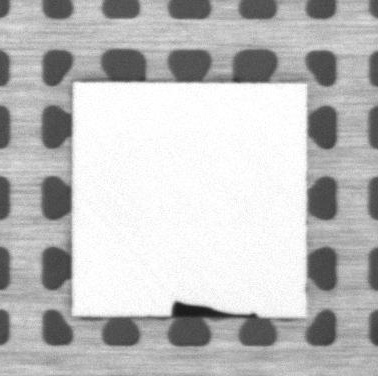DIE_INK: (170, 301, 260, 319)
